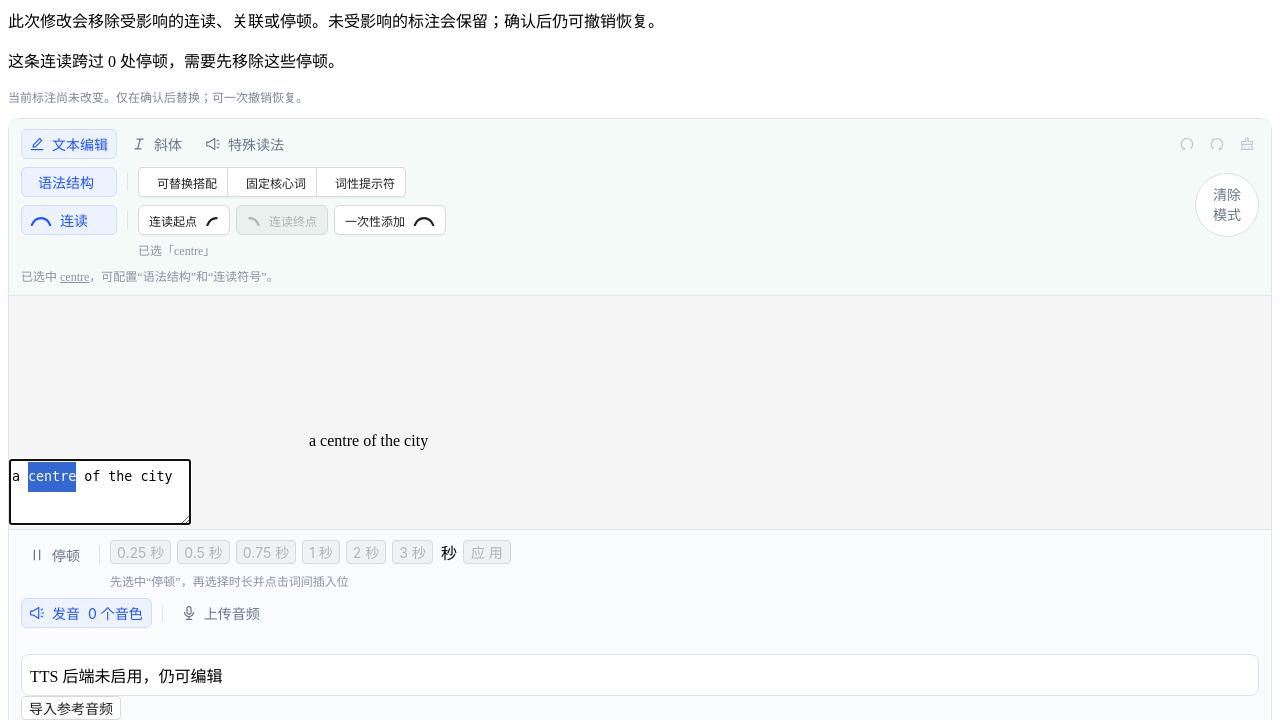
Test: VoiceEditor 文本与落盘 › 新的改动会清掉重做栈
Click the button "固定核心词".
click(272, 182)  # box [227,167,317,197]
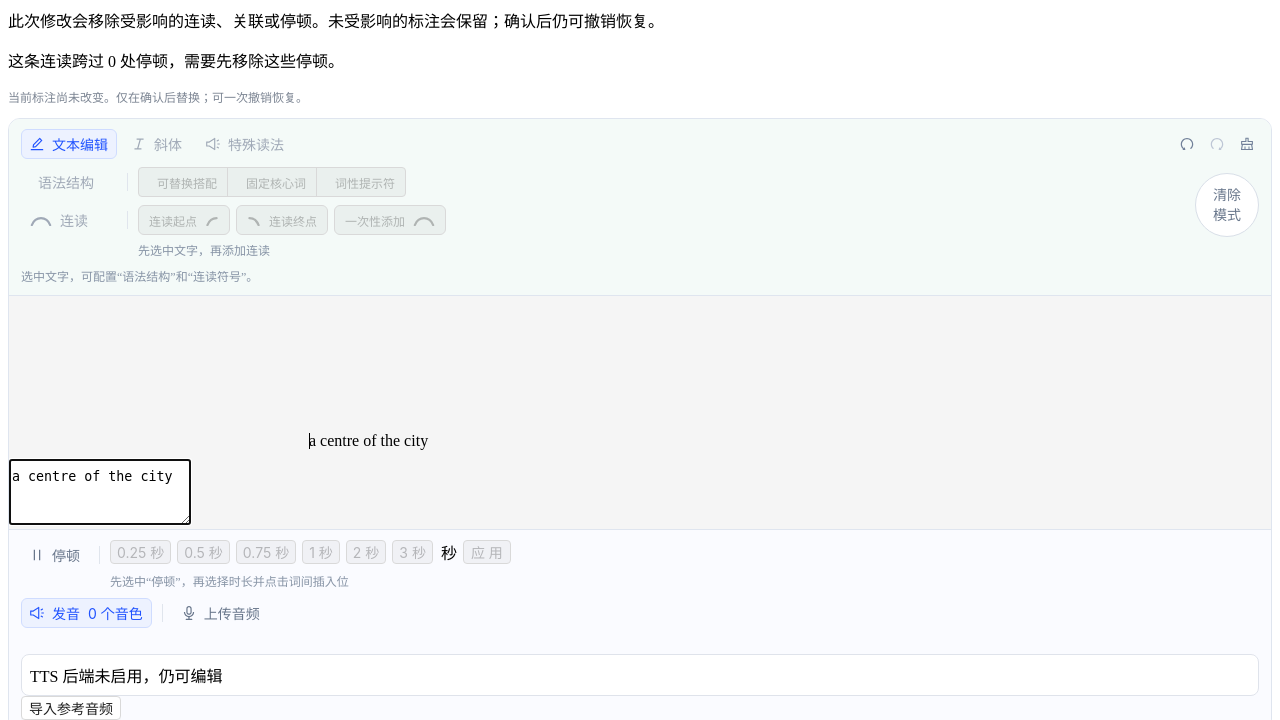
Click the button named "上一步".
click(1187, 144)  # box [1173,129,1201,159]
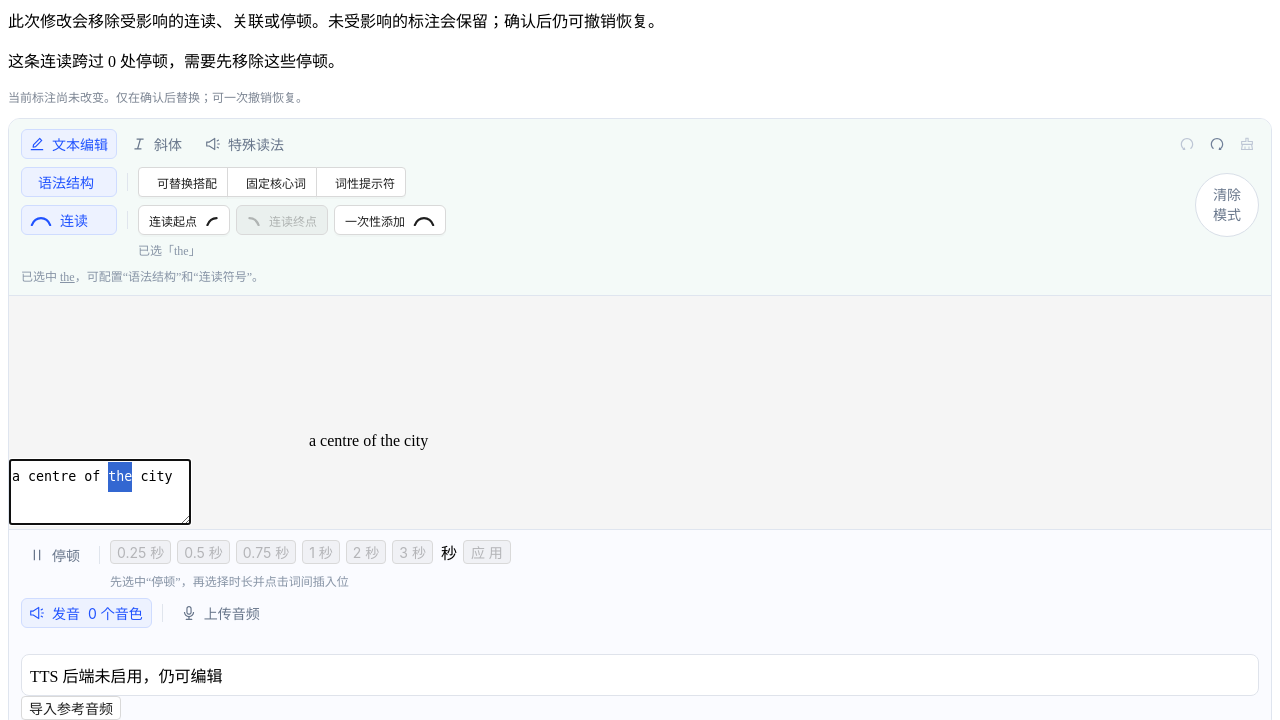
Expected: the button named "下一步" is enabled, [1203,129,1231,159]
Click the button "固定核心词".
click(272, 182)  # box [227,167,317,197]
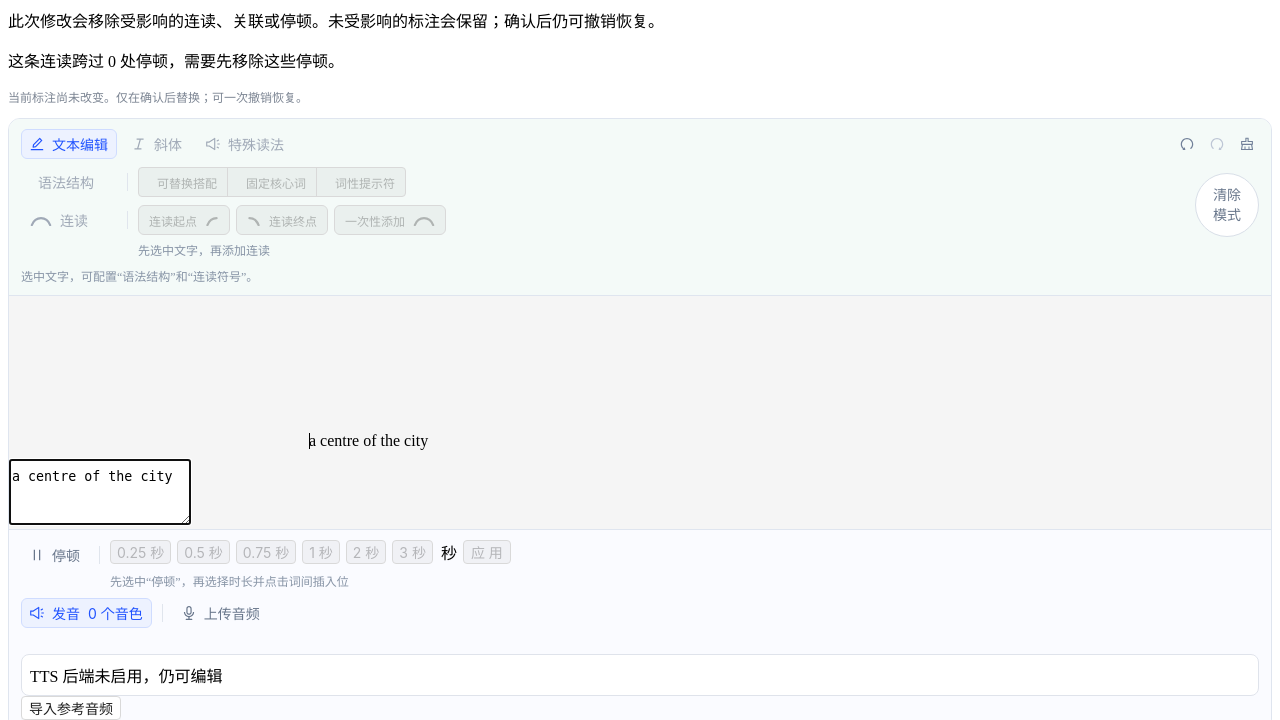
Expected: the button named "下一步" is disabled, [1203,129,1231,159]
